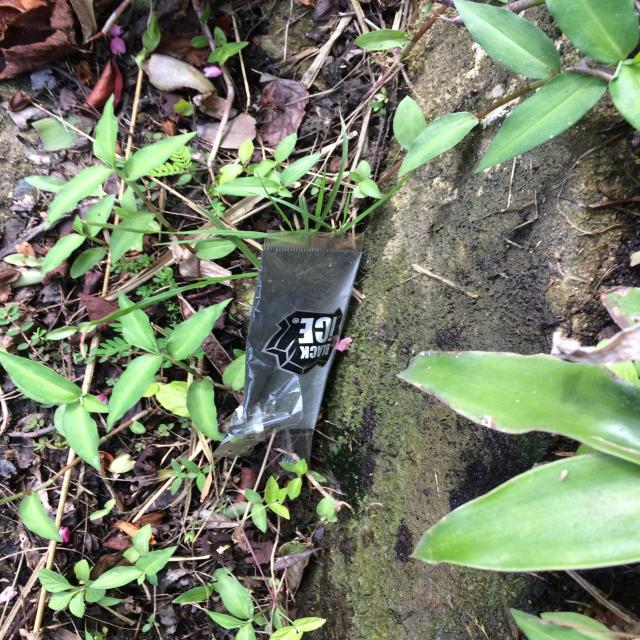litter: (229, 236, 361, 435)
